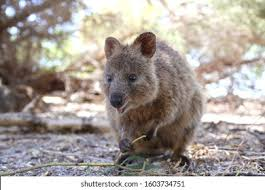quokka: (86, 31, 204, 170)
